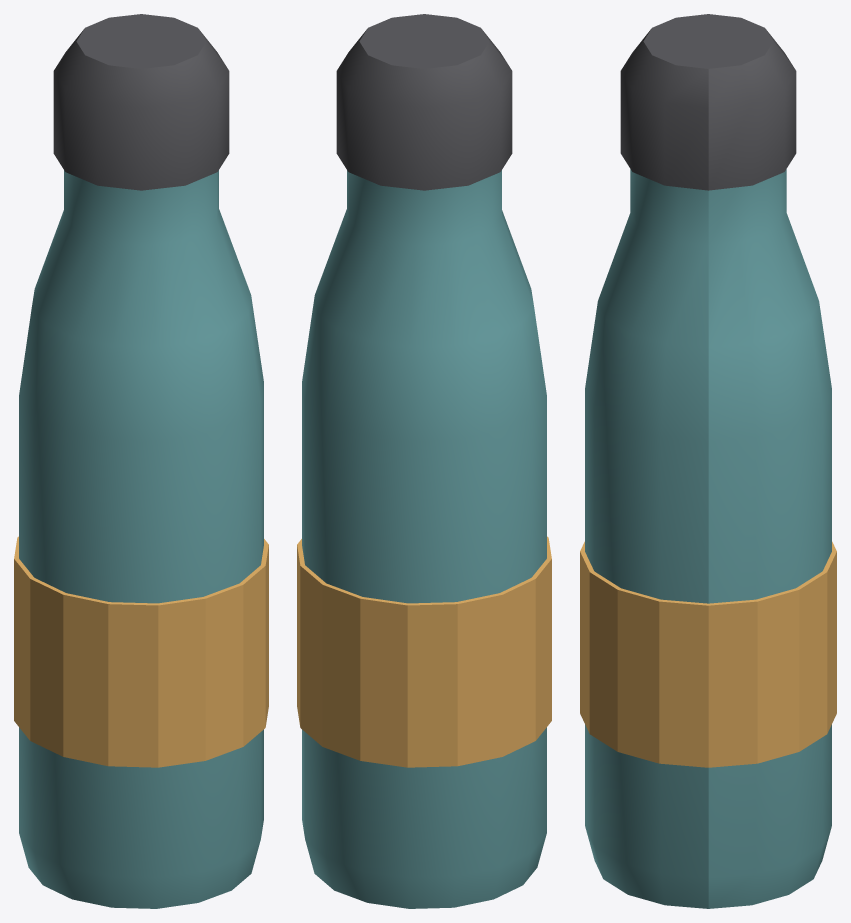
The model's file is music-recording-studio-and-instruments-water-bottle-f66c940c__33830.glb.
The picture shows the model from 3 angles, left to right: view 1: azimuth 30°, elevation 25°; view 2: azimuth 150°, elevation 25°; view 3: azimuth 270°, elevation 25°; orthographic projection.
Visible parts, largest first — view 1: water-bottle; view 2: water-bottle; view 3: water-bottle.
Part boxes in pixels (x1=…): water-bottle: x1=14, y1=14, x2=268, y2=908; water-bottle: x1=297, y1=14, x2=551, y2=908; water-bottle: x1=580, y1=14, x2=836, y2=908.
Bounding box in the file's own units: 0.079 × 0.278 × 0.079.
